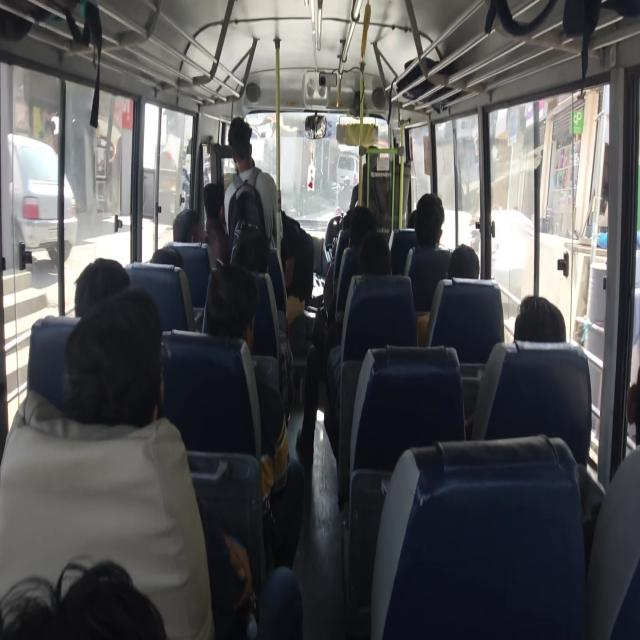person: (62, 278, 169, 440), (0, 550, 185, 640), (600, 340, 640, 495), (502, 286, 554, 371), (68, 258, 136, 312), (201, 277, 259, 331), (360, 246, 407, 303), (415, 191, 450, 262), (347, 199, 390, 255), (149, 238, 203, 279), (224, 127, 264, 181), (436, 243, 476, 293), (235, 230, 275, 278), (189, 180, 231, 218), (170, 197, 202, 242), (236, 199, 264, 244), (402, 202, 419, 228)
